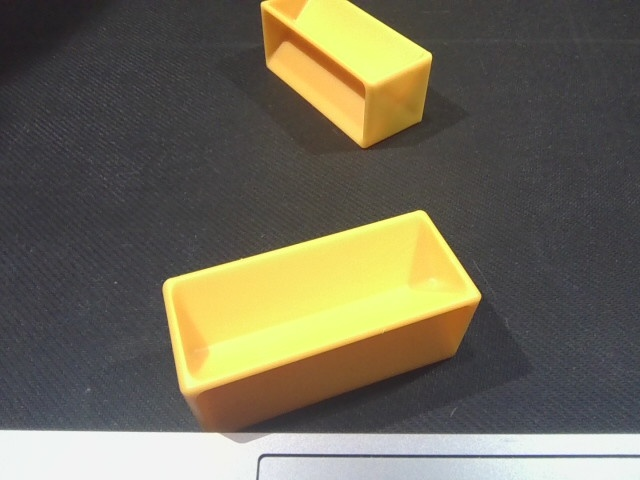YellowSample: (156, 207, 485, 435), (255, 1, 435, 149)
